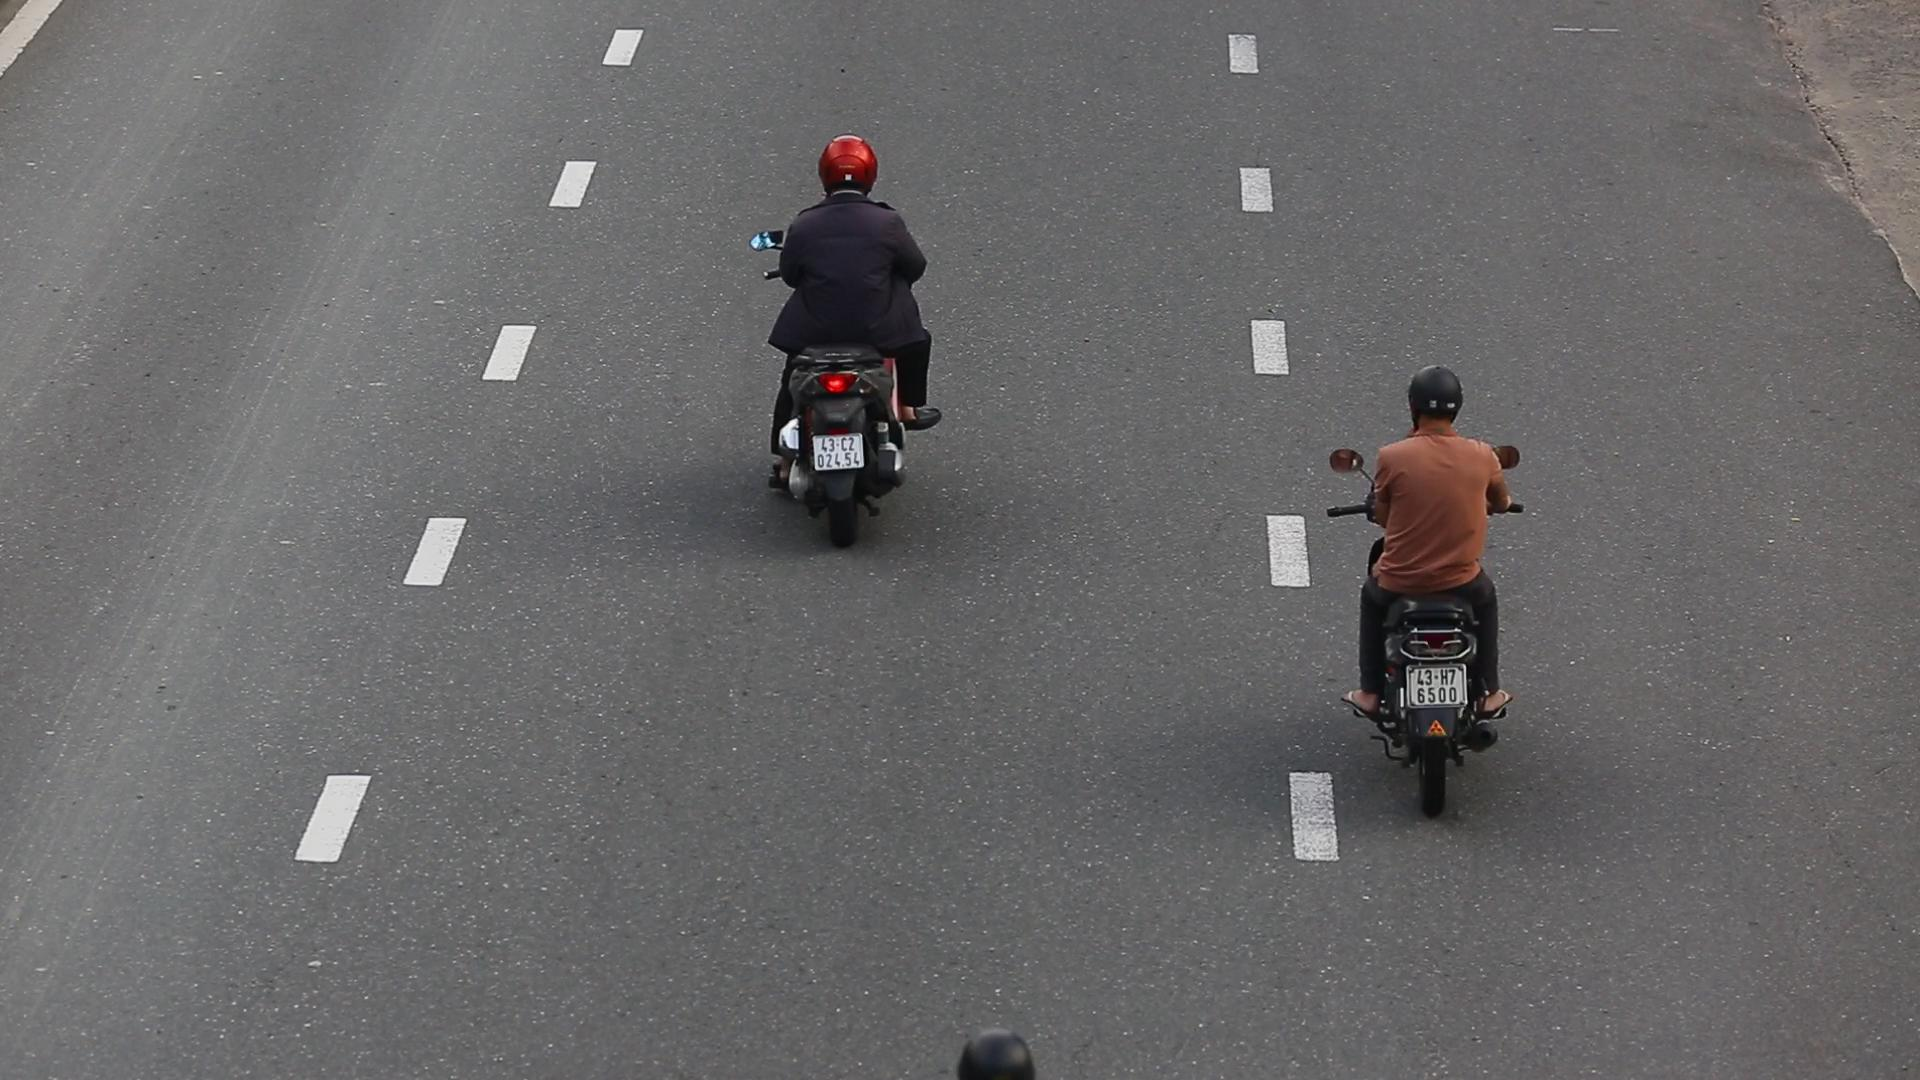motobike: (1325, 361, 1538, 829), (750, 128, 952, 551)
